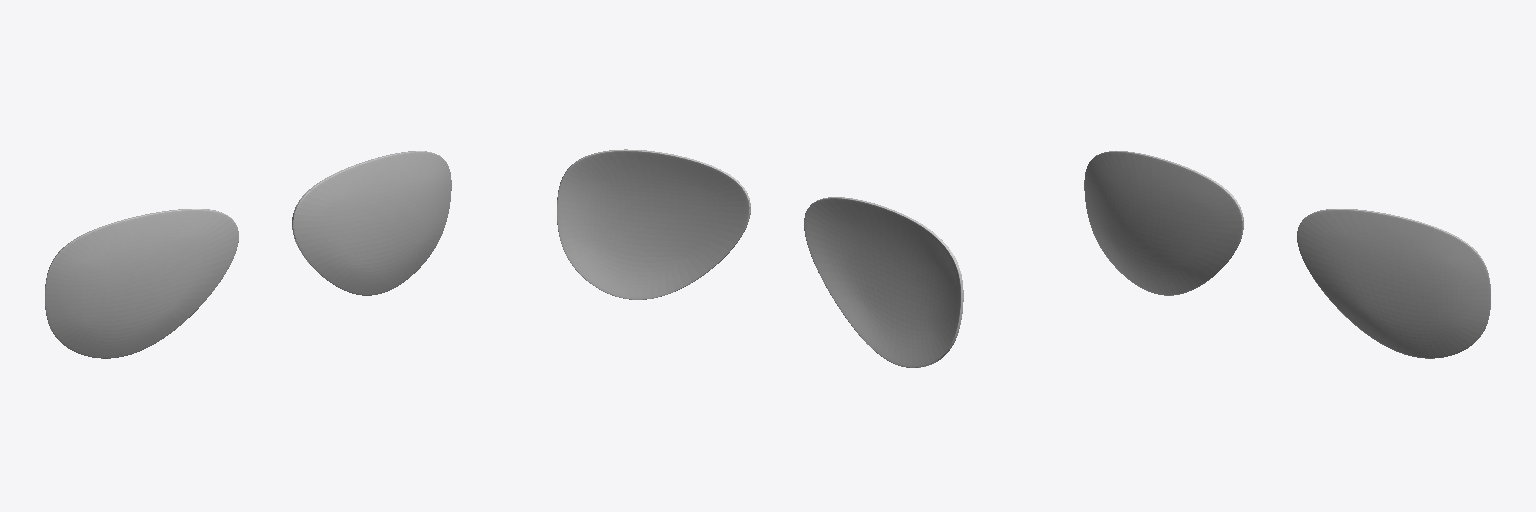
The model's file is glasses-1750123775541-631934309.obj.
The picture shows the model from 3 angles: view 1: azimuth 30°, elevation 25°; view 2: azimuth 150°, elevation 25°; view 3: azimuth 330°, elevation 25°; orthographic projection.
Visible parts, largest first — view 1: Lens_L_Outdoorsman.004, Lens_L_Outdoorsman.003; view 2: Lens_L_Outdoorsman.003, Lens_L_Outdoorsman.004; view 3: Lens_L_Outdoorsman.003, Lens_L_Outdoorsman.004.
Boxes of the visible parts, x1=… form: Lens_L_Outdoorsman.004: x1=45, y1=209, x2=238, y2=358; Lens_L_Outdoorsman.003: x1=292, y1=151, x2=451, y2=295; Lens_L_Outdoorsman.003: x1=557, y1=149, x2=750, y2=299; Lens_L_Outdoorsman.004: x1=804, y1=197, x2=963, y2=367; Lens_L_Outdoorsman.003: x1=1297, y1=209, x2=1490, y2=358; Lens_L_Outdoorsman.004: x1=1084, y1=151, x2=1243, y2=295.
Size of the model in its own units: 0.1386 by 0.0473 by 0.0125.